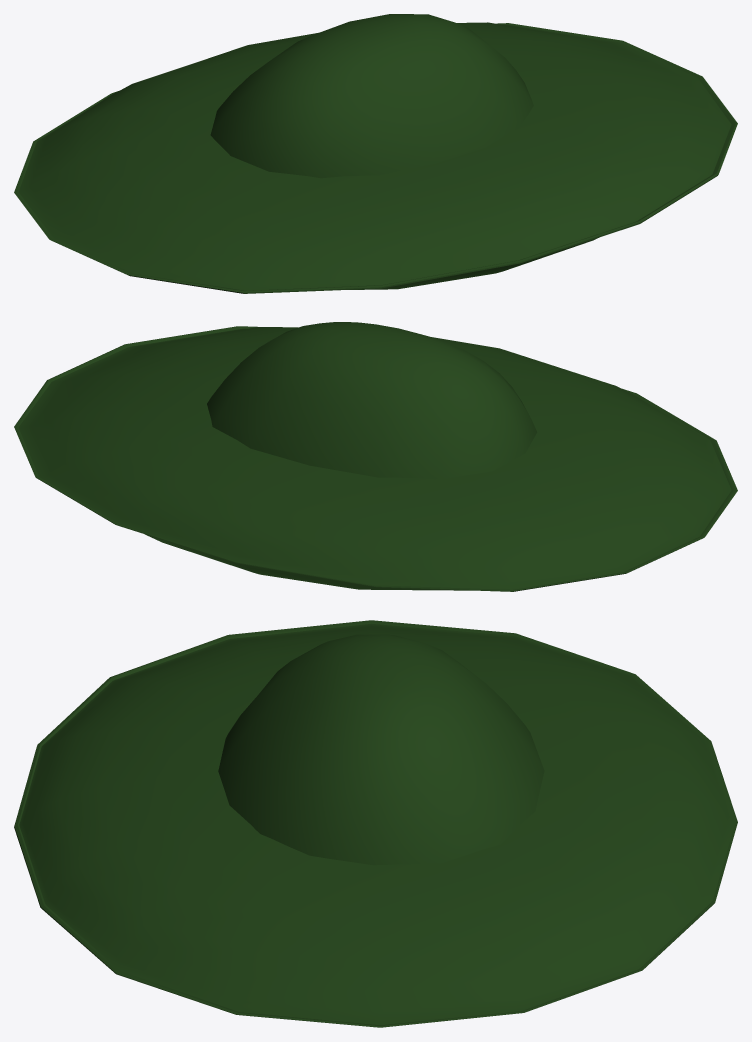
File: ovni.fbx
3 views of the same model, one above another, from view 1: azimuth 30°, elevation 25°; view 2: azimuth 150°, elevation 25°; view 3: azimuth 270°, elevation 25° (orthographic). The views are drawn at different scales.
Parts seen in each view (by area): view 1: Cube; view 2: Cube; view 3: Cube.
Boxes of the visible parts, bbox=[...] form: Cube: bbox=[14, 14, 737, 293]; Cube: bbox=[14, 322, 737, 591]; Cube: bbox=[14, 620, 737, 1027].
Size of the model in its own units: 728 by 253 by 547.
